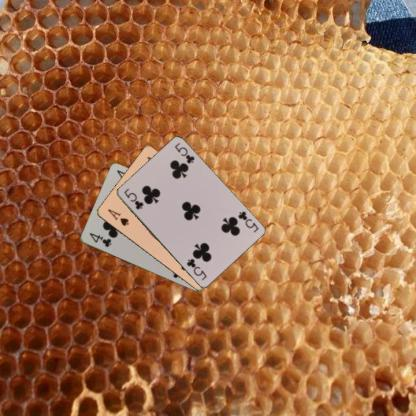4c: (86, 230, 112, 248)
5c: (235, 209, 260, 233), (121, 185, 144, 211)
As: (105, 206, 130, 227)
